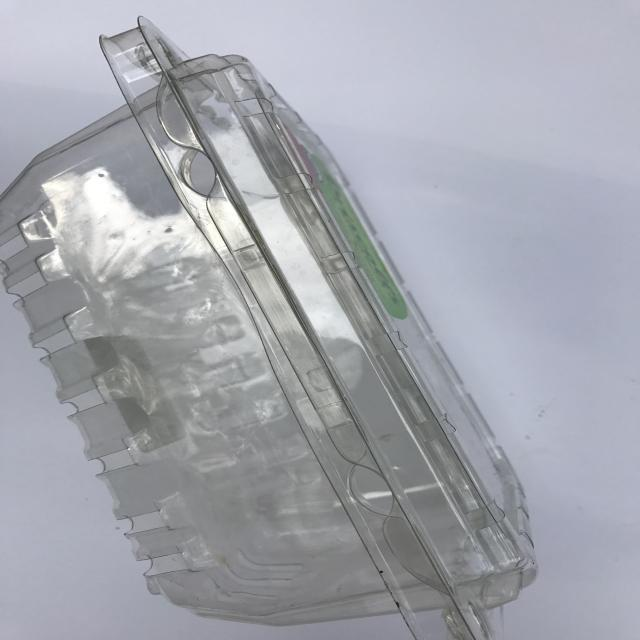plastic: (2, 13, 544, 640)
